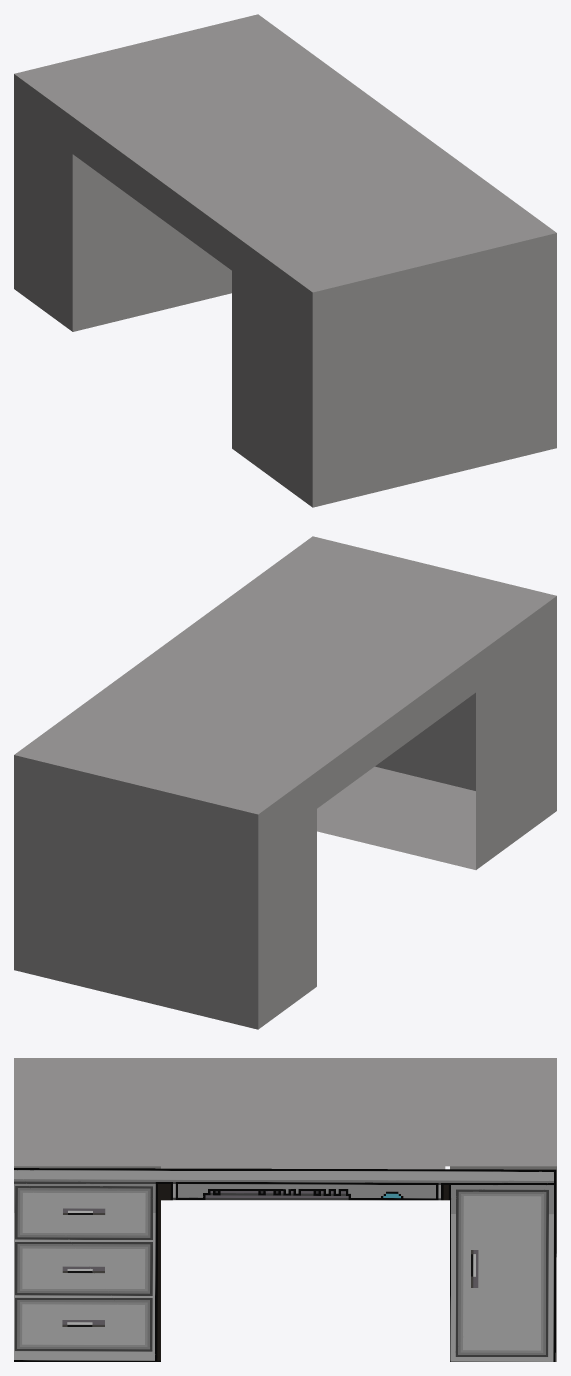
Rendered from desk.fbx.
3 renders of one model, top to bottom at view 1: azimuth 30°, elevation 25°; view 2: azimuth 150°, elevation 25°; view 3: azimuth 270°, elevation 25°, orthographic. The views are drawn at different scales.
Parts seen in each view (by area): view 1: desk; view 2: desk; view 3: desk.
Part boxes in pixels (<box>): desk: <box>14,14,556,507</box>; desk: <box>14,536,556,1029</box>; desk: <box>14,1058,556,1361</box>.
Bounding box in the file's own units: 200 × 168 × 424.
Materials: 2 (1 with a texture image).
